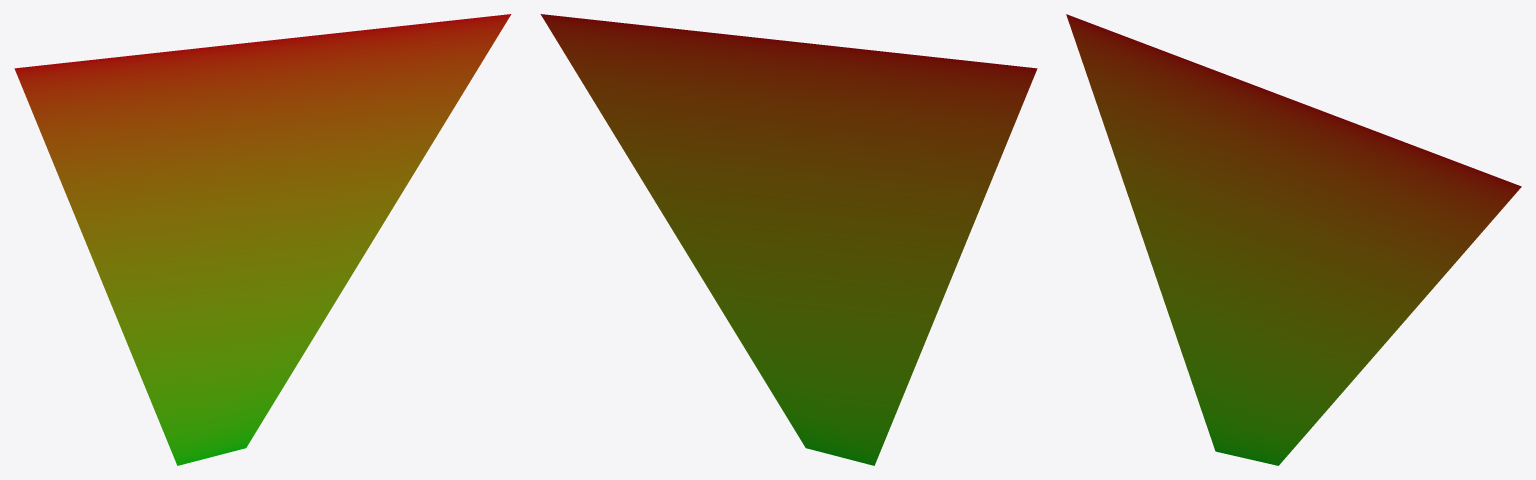
The model's file is Lily Of The Valley_LOD7_Var8_xikkdhjja.fbx.
The picture shows the model from 3 angles, left to right: view 1: azimuth 30°, elevation 25°; view 2: azimuth 150°, elevation 25°; view 3: azimuth 330°, elevation 25°; orthographic projection. The views are drawn at different scales.
Parts seen in each view (by area): view 1: _im2c_Var8_LOD7; view 2: _im2c_Var8_LOD7; view 3: _im2c_Var8_LOD7.
Boxes of the visible parts, x1,y1,x2,y2 form: _im2c_Var8_LOD7: (14, 14, 511, 465); _im2c_Var8_LOD7: (540, 14, 1037, 465); _im2c_Var8_LOD7: (1066, 14, 1521, 465).
Size of the model in its own units: 35.64 by 29.96 by 3.16e-09.
